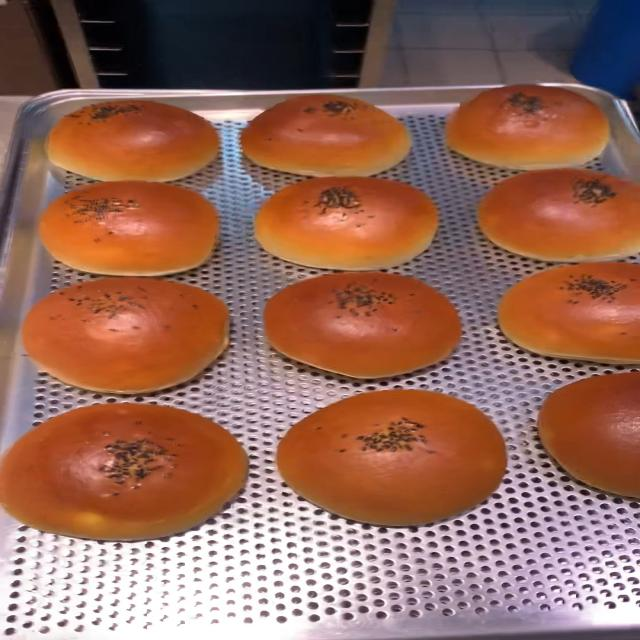bread: (0, 400, 249, 545), (276, 387, 506, 533), (14, 274, 233, 396), (259, 270, 466, 382), (16, 177, 229, 278), (251, 171, 445, 270), (478, 166, 640, 263), (499, 255, 640, 361), (538, 370, 639, 496)
